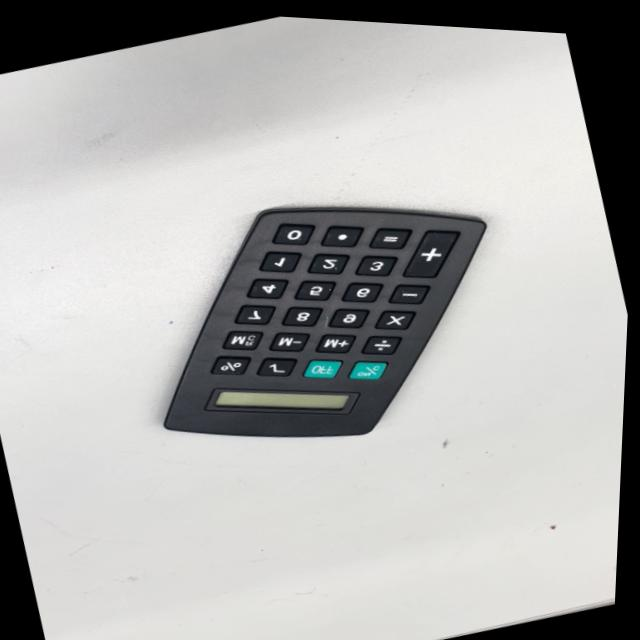calculator: (109, 149, 540, 496)
